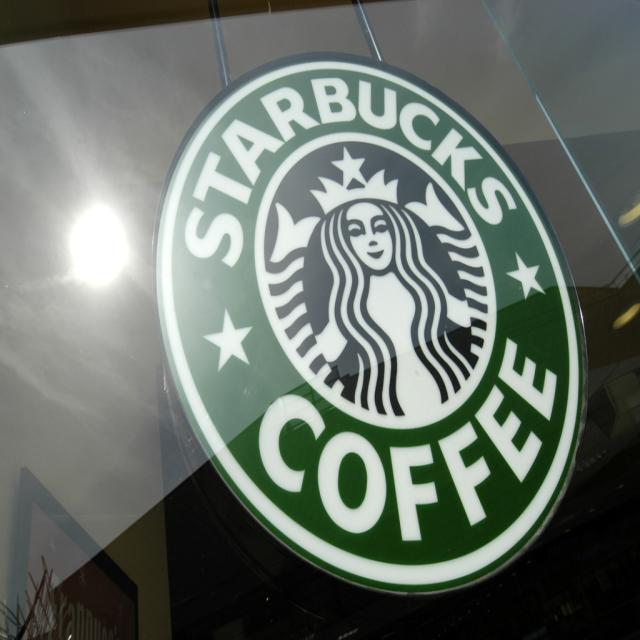starbucks: (153, 52, 588, 596)
